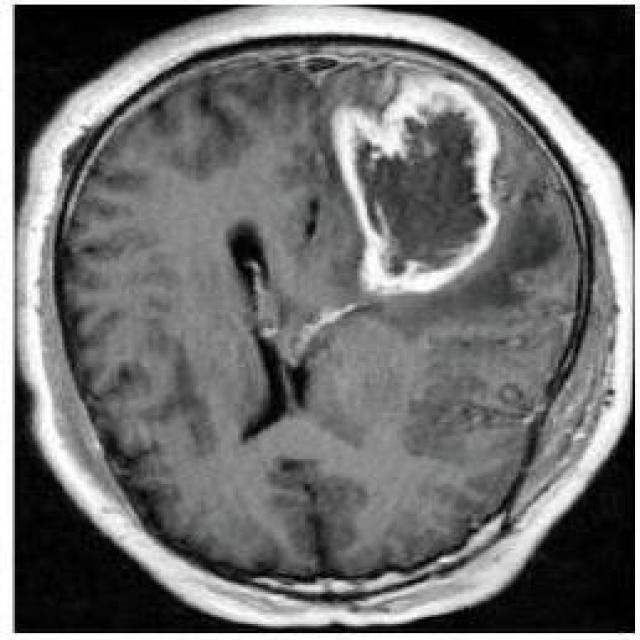Tumor-Cell: (333, 85, 500, 279)
